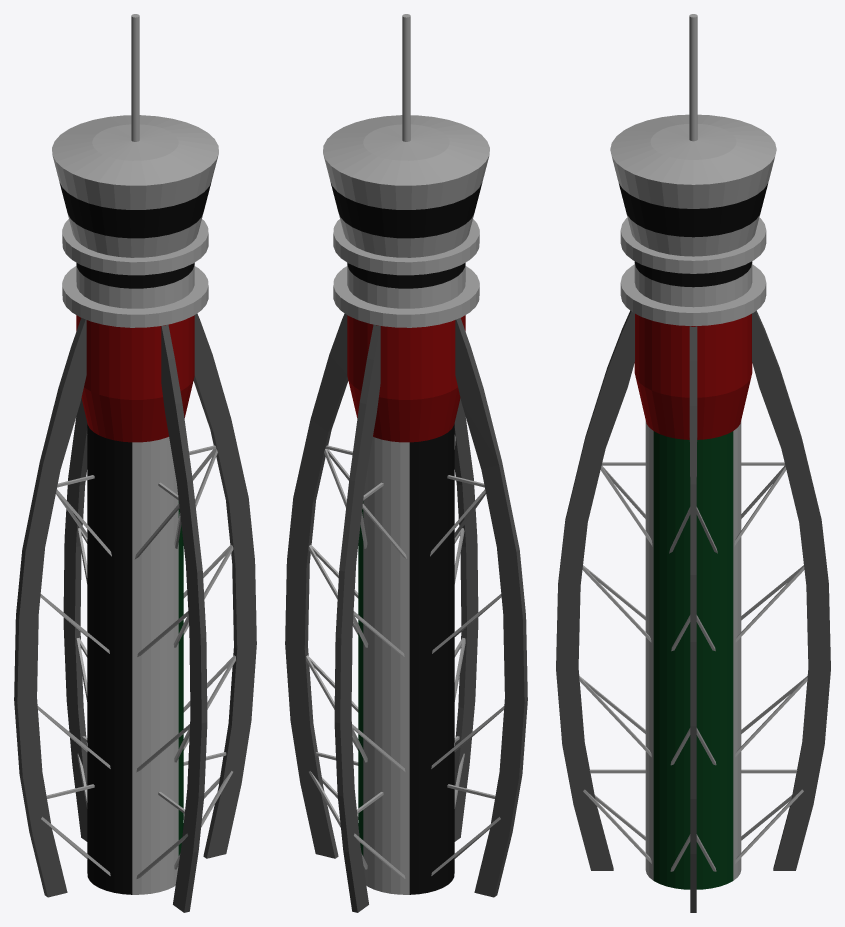
File: control tower.obj
The picture shows the model from 3 angles, left to right: view 1: azimuth 30°, elevation 25°; view 2: azimuth 150°, elevation 25°; view 3: azimuth 270°, elevation 25°; orthographic projection.
Size of the model in its own units: 32.14 by 110 by 32.14.
